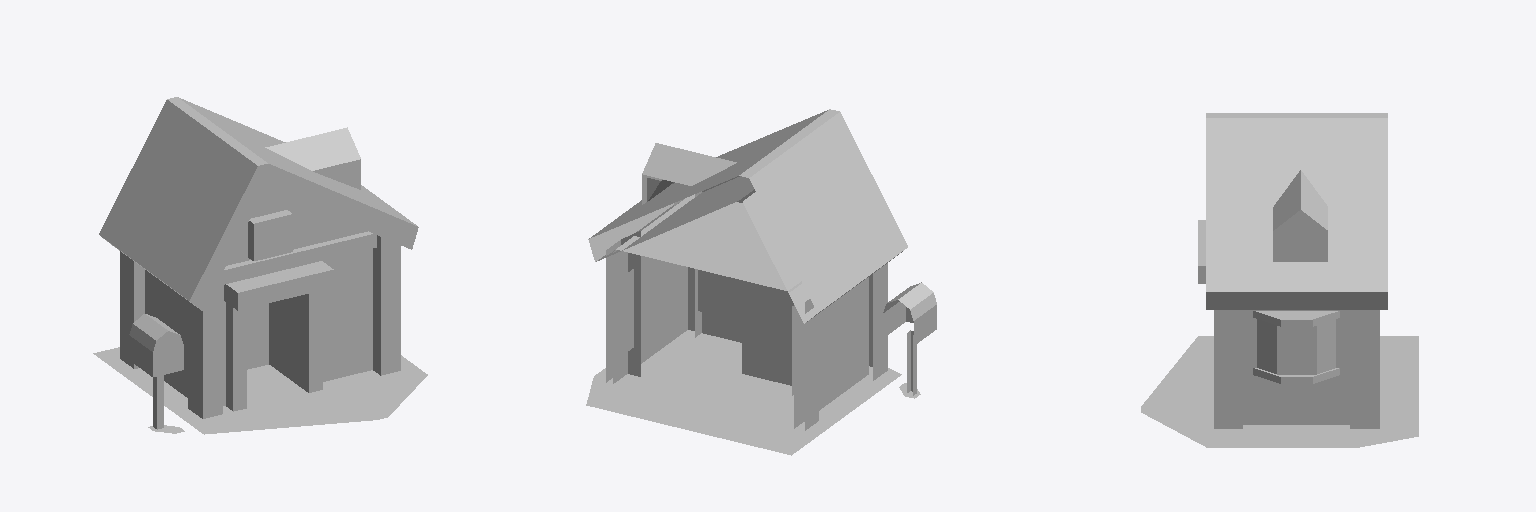
Rendered from Nuvema Town House 1.obj.
3 views of the same model, side by side, from view 1: azimuth 30°, elevation 25°; view 2: azimuth 150°, elevation 25°; view 3: azimuth 270°, elevation 25° (orthographic).
Visible parts, largest first — view 1: polygon4, polygon6, polygon5, polygon3, polygon2; view 2: polygon4, polygon6, polygon3, polygon5, polygon1, polygon2; view 3: polygon4, polygon6, polygon3, polygon5.
Part boxes in pixels (x1,y1,x2,y2): polygon4: (99, 97, 418, 310); polygon6: (120, 210, 400, 418); polygon5: (145, 189, 372, 411); polygon3: (93, 347, 427, 434); polygon2: (129, 314, 183, 429); polygon4: (588, 109, 907, 323); polygon6: (606, 191, 887, 430); polygon3: (586, 330, 920, 455); polygon5: (613, 176, 868, 428); polygon1: (623, 258, 793, 395); polygon2: (883, 282, 936, 395); polygon4: (1198, 113, 1387, 309); polygon6: (1214, 310, 1379, 428); polygon3: (1141, 336, 1418, 447); polygon5: (1243, 310, 1349, 424).
Size of the model in its own units: 79.5 by 70.2 by 70.5.